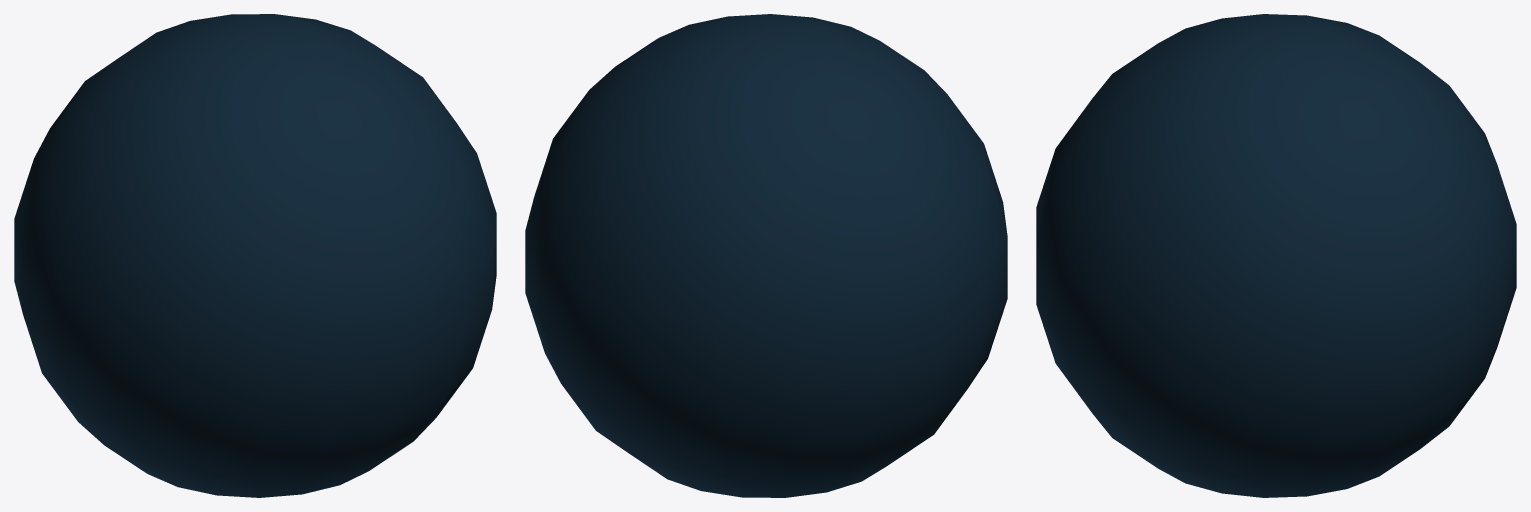
The model's file is quaternius-platformer-game-cannonball.glb.
3 renders of one model, left to right at view 1: azimuth 30°, elevation 25°; view 2: azimuth 150°, elevation 25°; view 3: azimuth 270°, elevation 25°, orthographic.
Parts seen in each view (by area): view 1: Cannonball; view 2: Cannonball; view 3: Cannonball.
Boxes of the visible parts, x1,y1,x2,y2 form: Cannonball: (14, 14, 496, 497); Cannonball: (525, 14, 1007, 497); Cannonball: (1036, 14, 1516, 497).
Size of the model in its own units: 1.13 by 1.14 by 1.12.
